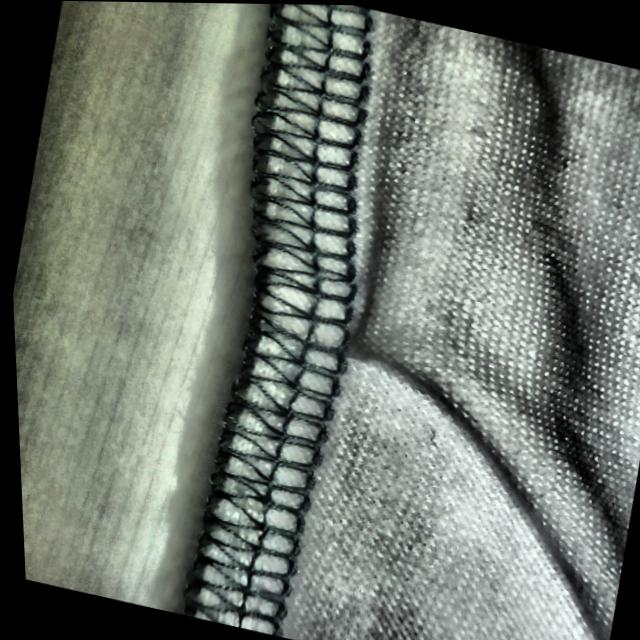seam: (151, 135, 581, 500)
